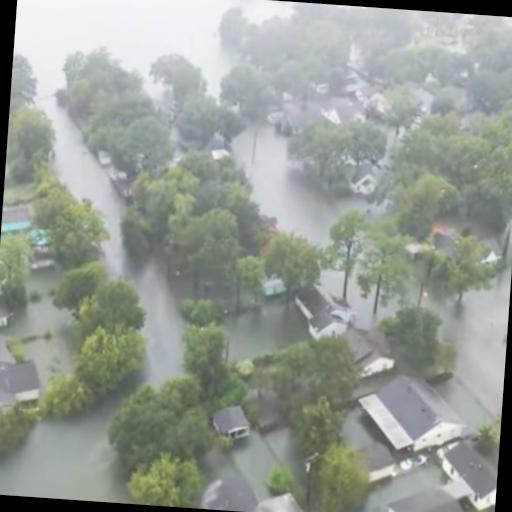flood: (14, 0, 294, 383), (233, 125, 373, 245), (0, 395, 128, 504), (427, 269, 512, 430), (4, 272, 68, 384), (206, 431, 292, 500), (224, 301, 308, 358), (363, 464, 443, 512)
house: (341, 372, 466, 478), (194, 470, 320, 512), (436, 432, 500, 504), (0, 336, 45, 428), (292, 286, 358, 340), (381, 481, 478, 512), (210, 402, 252, 444), (346, 162, 380, 194), (1, 204, 33, 234), (319, 98, 351, 124), (0, 298, 12, 333)
